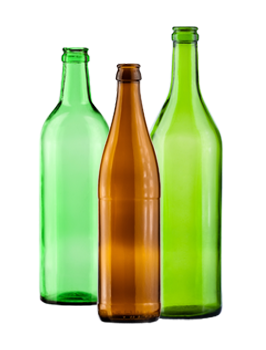glass_bottle: (31, 20, 234, 329)
